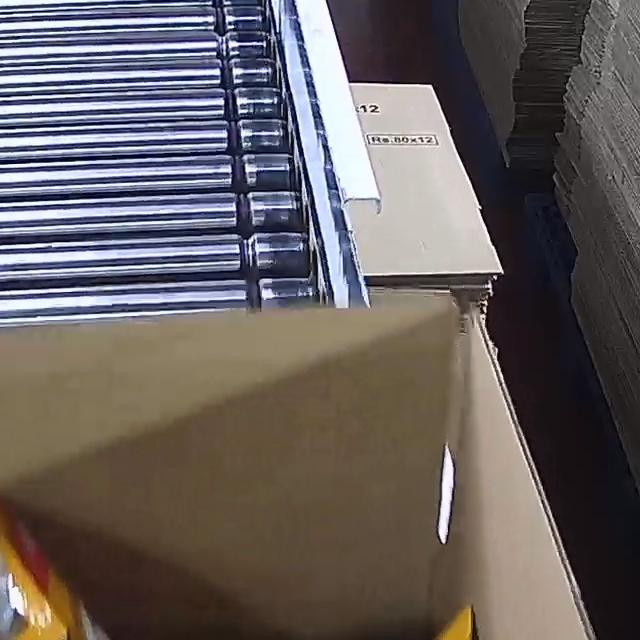cheese: (0, 510, 592, 640)
